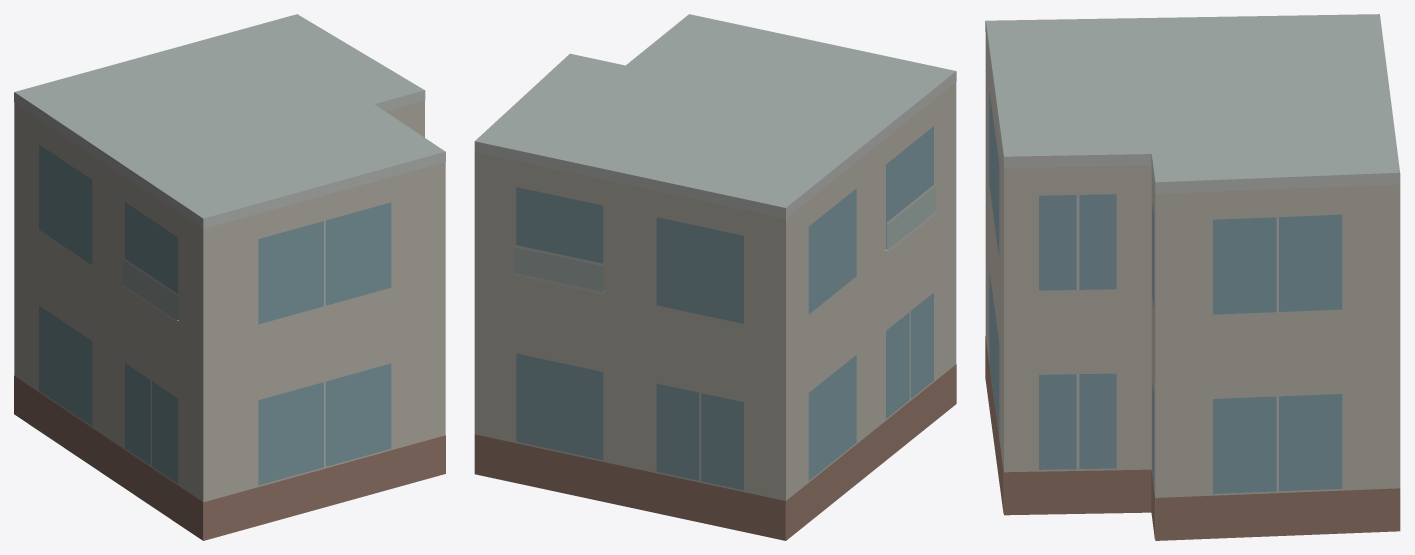
Rendered from survey-upis-32607244.glb.
3 renders of one model, left to right at view 1: azimuth 30°, elevation 25°; view 2: azimuth 150°, elevation 25°; view 3: azimuth 270°, elevation 25°, orthographic. The views are drawn at different scales.
Visible parts, largest first — view 1: survey-upis-32607244.tmp; view 2: survey-upis-32607244.tmp; view 3: survey-upis-32607244.tmp.
Boxes of the visible parts, x1,y1,x2,y2 form: survey-upis-32607244.tmp: (14,14,445,540); survey-upis-32607244.tmp: (474,14,956,540); survey-upis-32607244.tmp: (985,14,1400,540).
Size of the model in its own units: 7.66 by 7.6 by 7.97.
